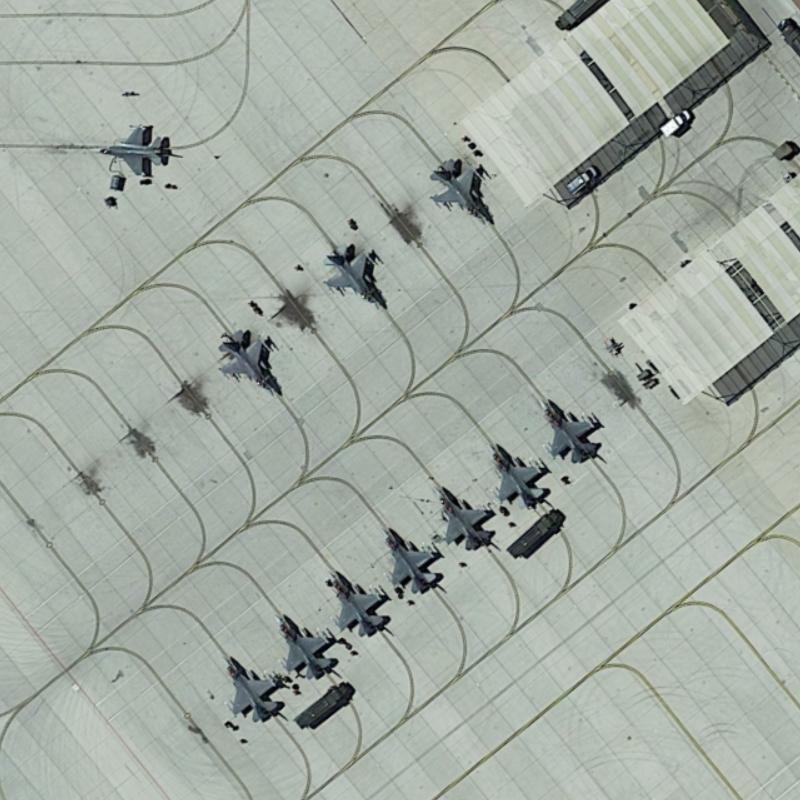A5: (425, 475, 501, 555), (319, 561, 392, 642), (375, 518, 448, 598), (212, 323, 288, 399), (86, 117, 175, 181), (271, 604, 342, 684), (485, 431, 552, 514), (537, 390, 608, 467), (317, 239, 389, 312), (216, 649, 286, 724), (424, 154, 492, 230)
